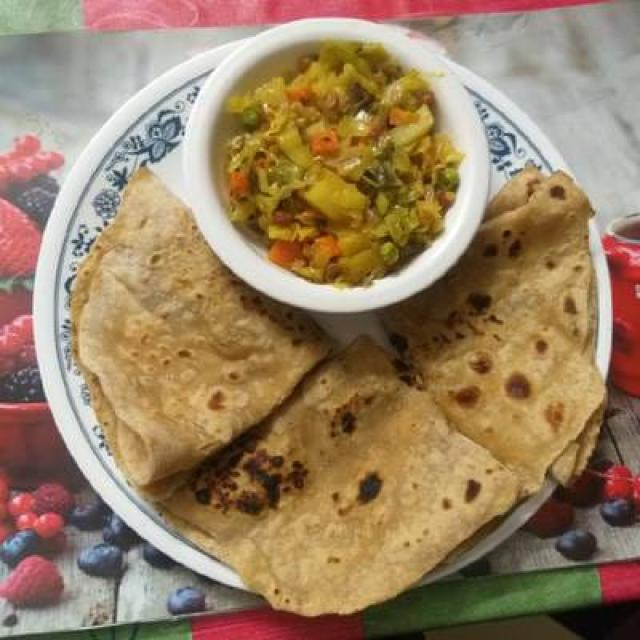chapathi: (168, 337, 536, 622), (57, 154, 336, 492), (374, 174, 626, 480)
